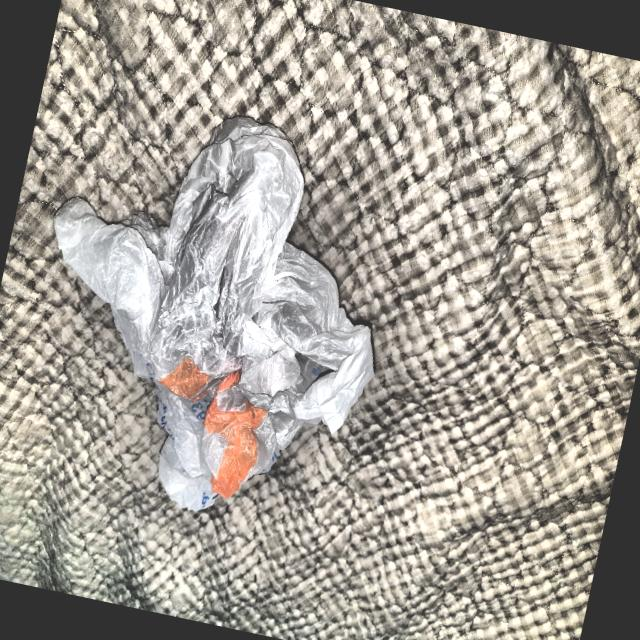plastic bag: (0, 57, 433, 552)
